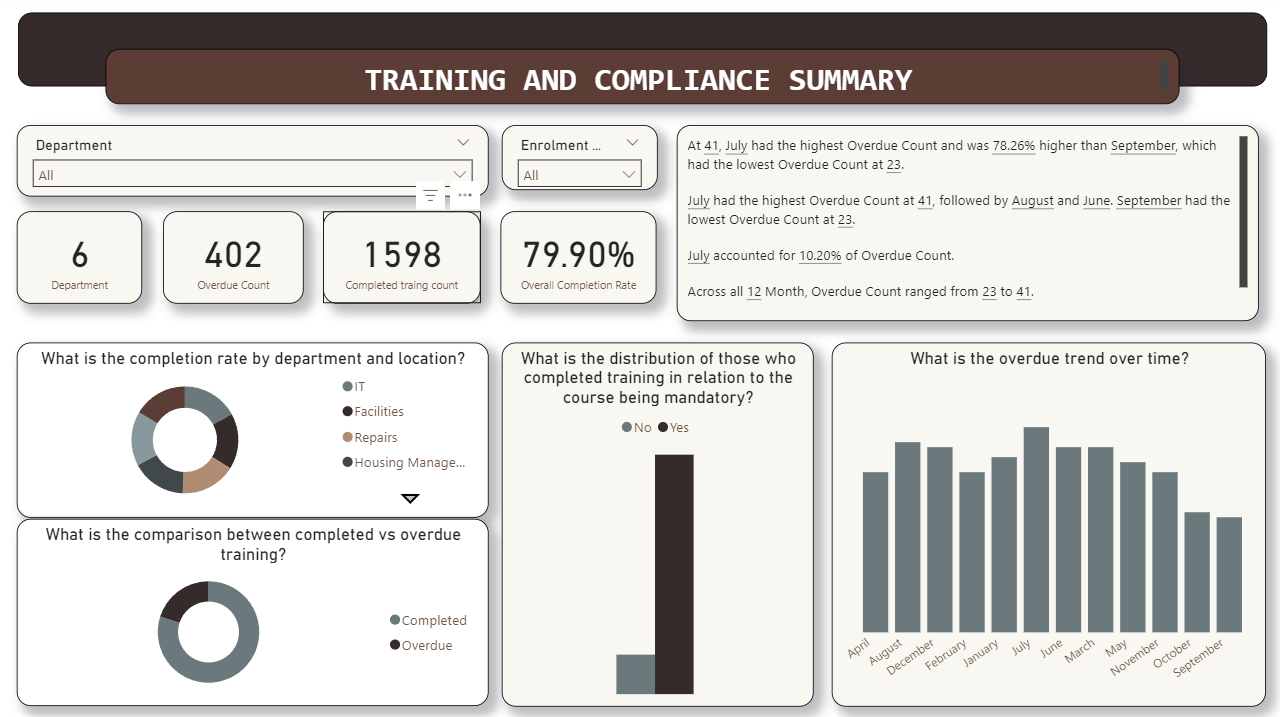

Layout of this report page (visuals, bound fields, positions):
{"tool":"powerbi","page":{"name":"Training Compliance Summary","canvas":[1280,720],"ordinal":0},"visuals":[{"type":"donutChart","title":"What is the completion rate by department and location?","fields":{"Series":["public dim_completionstatus.completionstatus"],"Category":["Team and Completion Status.Team","public dim_employee.location"],"Y":["Measure-0.CompletionRate"]},"box":[19.2,345.8,469.3,174.3],"z":0},{"type":"donutChart","title":"What is the comparison between completed vs overdue training?","fields":{"Category":["Team and Completion Status.CompletionStatus"],"Y":["CountNonNull(Team and Completion Status.Team)"]},"box":[19.2,521.4,469.3,186.6],"z":1000},{"type":"clusteredColumnChart","title":"What is the overdue trend over time?","fields":{"Category":["Overdue Summary.EnrollmentMonth","Overdue Summary.EnrollmentQuarter"],"Y":["CountNonNull(Overdue Summary.EmployeeID)"]},"box":[830.2,345.8,432.2,362.3],"z":2000},{"type":"textbox","box":[19.6,17.2,1243,73.6],"z":3000},{"type":"textbox","box":[106.7,54,1068.7,55.2],"z":4000},{"type":"textbox","box":[675.1,129,579.1,194.9],"z":5000},{"type":"slicer","fields":{"Values":["Team and Completion Status.Team"]},"box":[19.2,129,469.3,71.4],"z":6000},{"type":"card","fields":{"Values":["Count(public dim_employee.team)"]},"box":[19.2,215.4,124.9,91.9],"z":7000},{"type":"clusteredColumnChart","title":"What is the distribution of those who completed training in relation to the course being mandatory?","fields":{"Y":["CountNonNull(public dim_completionstatus.completionstatus)"],"Series":["public dim_completionstatus.ismandatory"]},"box":[500.9,345.8,310.1,362.3],"z":8000},{"type":"card","fields":{"Values":["Measure-0.OverdueCount"]},"box":[164,215.4,140,91.9],"z":9000},{"type":"card","fields":{"Values":["CountNonNull(Cleaned LMS Dataset Final.EmployeeID)"]},"box":[323.8,215.4,156.4,91.9],"z":10000},{"type":"card","fields":{"Values":["Measure-0.CompletionRate"]},"box":[499.5,215.4,155.1,91.9],"z":11000},{"type":"slicer","fields":{"Values":["Team and Completion Status.EnrollmentMonth"]},"box":[500.9,129,155.1,64.5],"z":12000}]}

Visuals, with their boxes in screenshot pixels (x1, y1, x2, y2), scaled from the page's 1280x720 canvas onto the 1280x717 screenshot:
"What is the completion rate by department and location?" donutChart: 19:344:488:518
"What is the comparison between completed vs overdue training?" donutChart: 19:519:488:705
"What is the overdue trend over time?" clusteredColumnChart: 830:344:1262:705
textbox: 20:17:1263:90
textbox: 107:54:1175:109
textbox: 675:128:1254:323
slicer - Team and Completion Status.Team: 19:128:488:200
card - Count(public dim_employee.team): 19:215:144:306
"What is the distribution of those who completed training in relation to the course being mandatory?" clusteredColumnChart: 501:344:811:705
card - Measure-0.OverdueCount: 164:215:304:306
card - CountNonNull(Cleaned LMS Dataset Final.EmployeeID): 324:215:480:306
card - Measure-0.CompletionRate: 500:215:655:306
slicer - Team and Completion Status.EnrollmentMonth: 501:128:656:193
